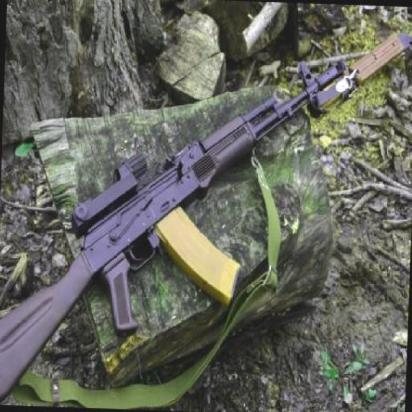Gun: (0, 7, 409, 412)
